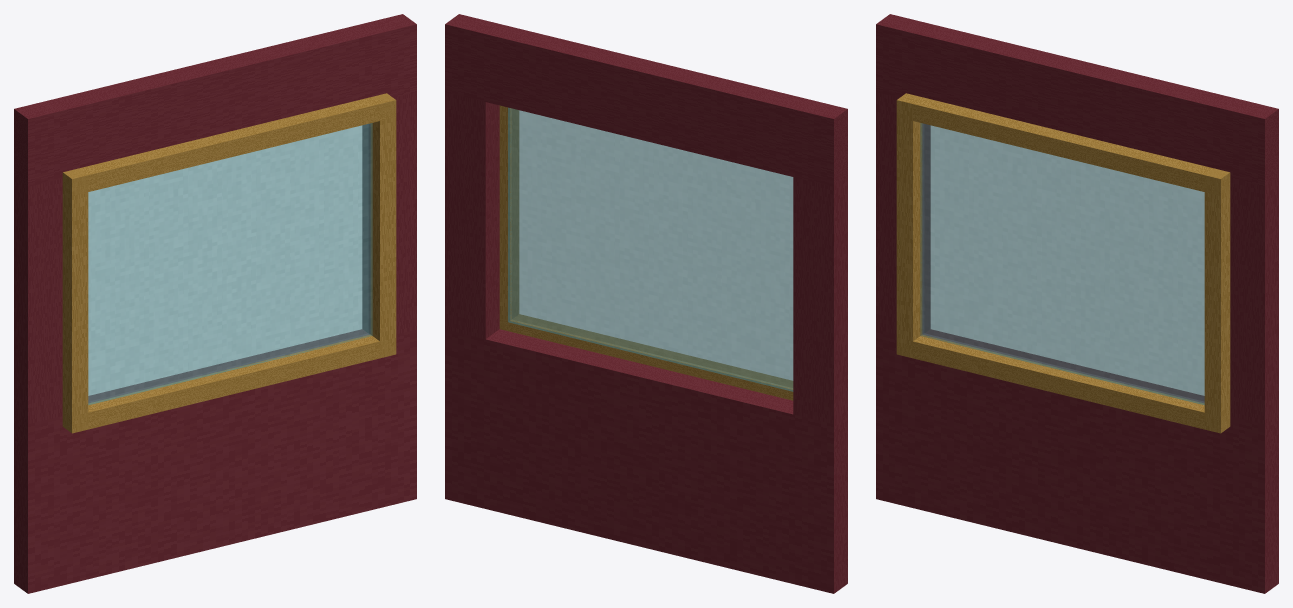
The model's file is compartment_window.glb.
The picture shows the model from 3 angles, left to right: view 1: azimuth 30°, elevation 25°; view 2: azimuth 150°, elevation 25°; view 3: azimuth 330°, elevation 25°; orthographic projection.
Parts seen in each view (by area): view 1: wall_bottom, glass, wall_top, frame (×4), wall_side (×2); view 2: wall_bottom, glass, wall_top, wall_side (×2), frame (×2); view 3: wall_bottom, glass, wall_top, frame (×4), wall_side (×2).
Boxes of the visible parts, x1,y1,x2,y2 form: wall_bottom: [14, 329, 416, 593]; glass: [88, 123, 372, 404]; wall_top: [14, 14, 416, 186]; frame (×4): [62, 93, 396, 433]; wall_side (×2): [14, 92, 416, 424]; wall_bottom: [445, 329, 847, 593]; glass: [508, 107, 793, 391]; wall_top: [445, 14, 847, 186]; wall_side (×2): [445, 92, 847, 424]; frame (×2): [499, 105, 793, 400]; wall_bottom: [876, 329, 1278, 593]; glass: [920, 123, 1204, 404]; wall_top: [876, 14, 1278, 186]; frame (×4): [896, 93, 1230, 433]; wall_side (×2): [876, 92, 1278, 424].
Bounding box in the file's own units: 2.4 × 2.8 × 0.275.
2 materials, 2 textured.
